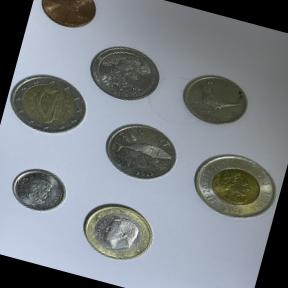coin: (177, 135, 288, 233), (0, 64, 98, 145), (70, 192, 166, 273), (94, 112, 188, 192), (81, 35, 173, 112), (4, 159, 76, 220), (28, 0, 107, 39)
